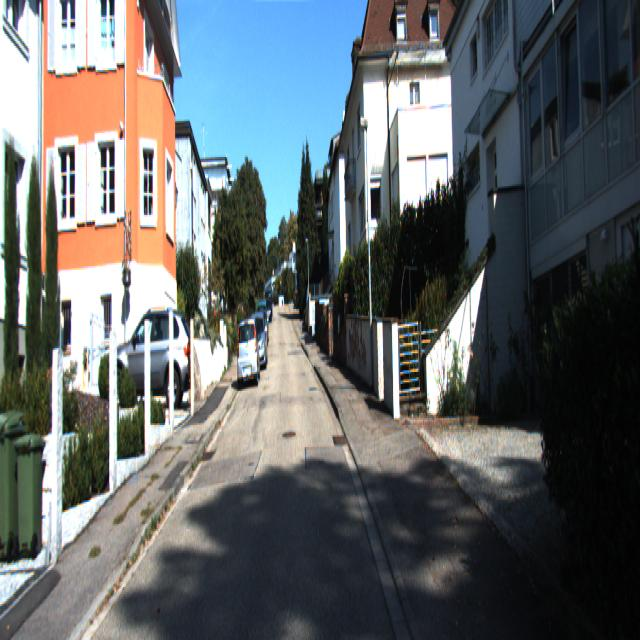Car: (104, 305, 194, 415), (236, 317, 262, 392), (245, 312, 269, 372)
